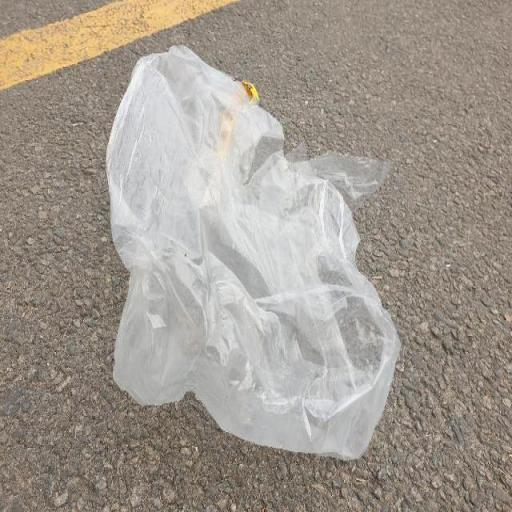plastic-bag: (104, 40, 402, 466)
